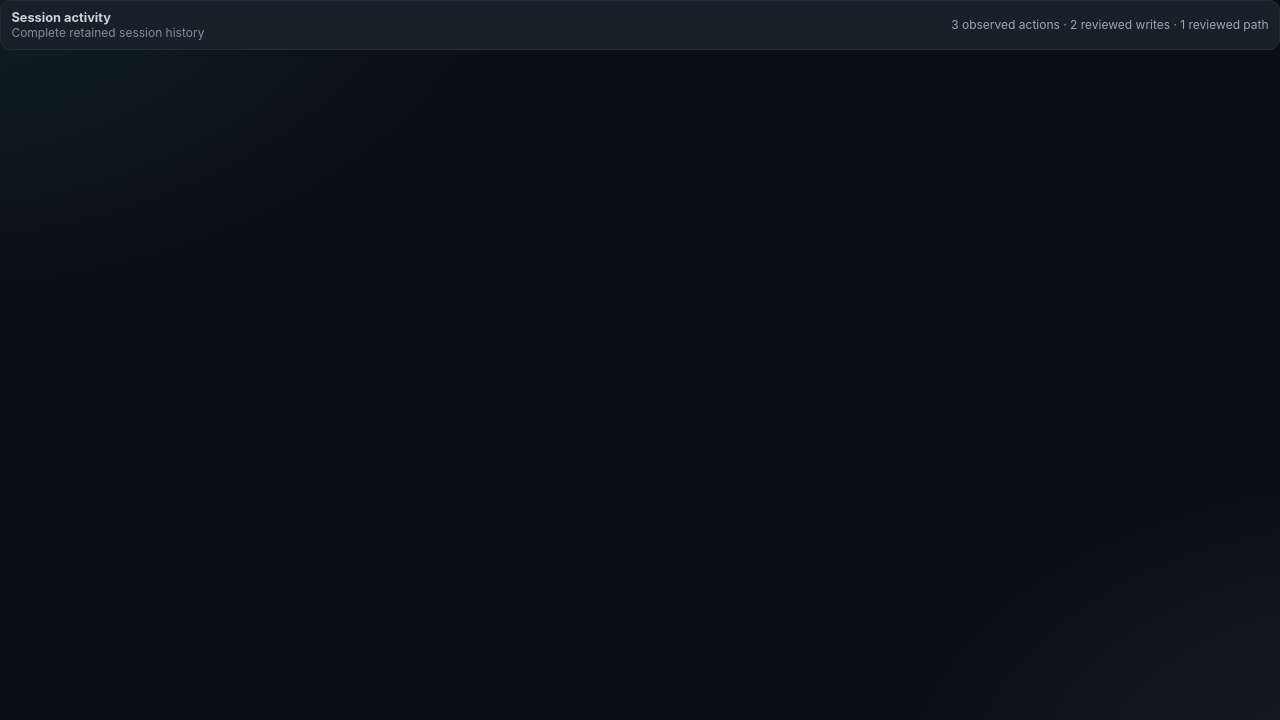
Scenario: AgentSessionEffects › groups repeated reviewed receipts without claiming they are a net diff
The image size is (1280, 720).
Later steps or results of the test are not shown.
Click the heading named "Session activity and write receipts": click(61, 17) left=1, top=1, right=1279, bottom=49
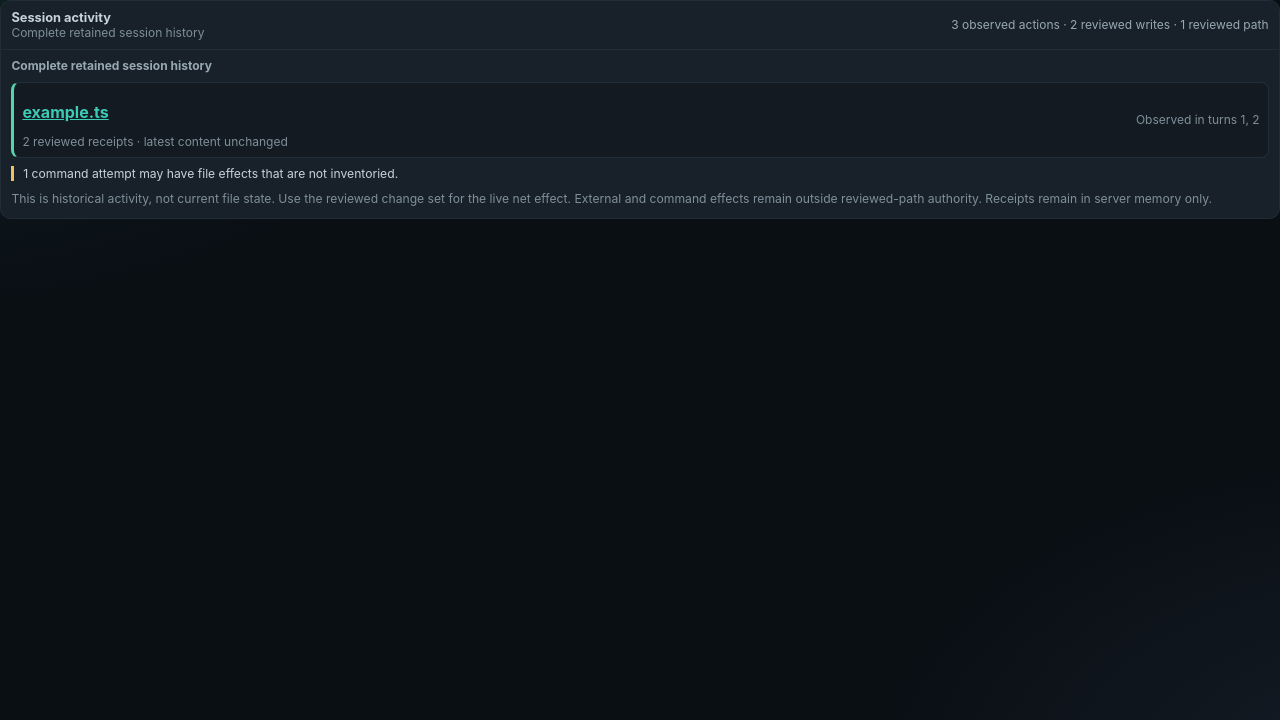
Expected: the text "Complete retained session history" is shown 2 times, left=11, top=25, right=204, bottom=40; left=11, top=58, right=212, bottom=73
Expected: the text "2 reviewed receipts · latest content unchanged" is shown, left=22, top=134, right=288, bottom=149
Expected: the text "1 command attempt may have file effects that are not inventoried" is shown, left=11, top=166, right=1269, bottom=181
